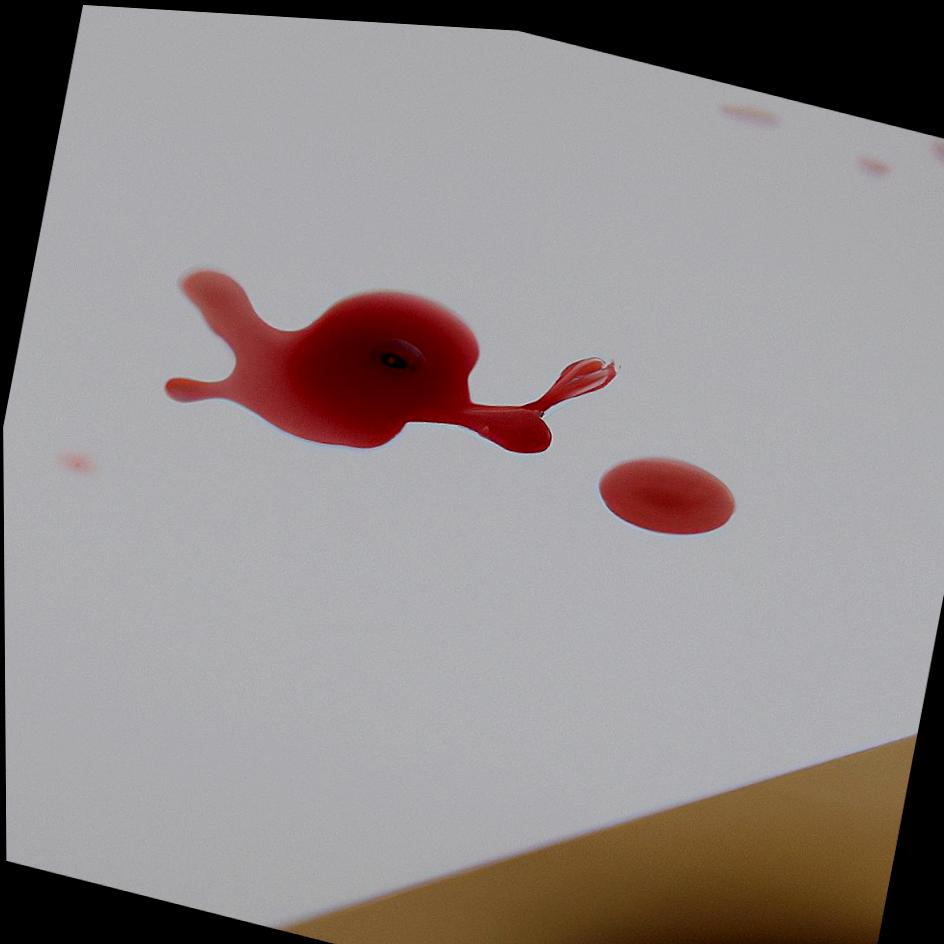Fire: (163, 267, 616, 448), (597, 450, 735, 527)
